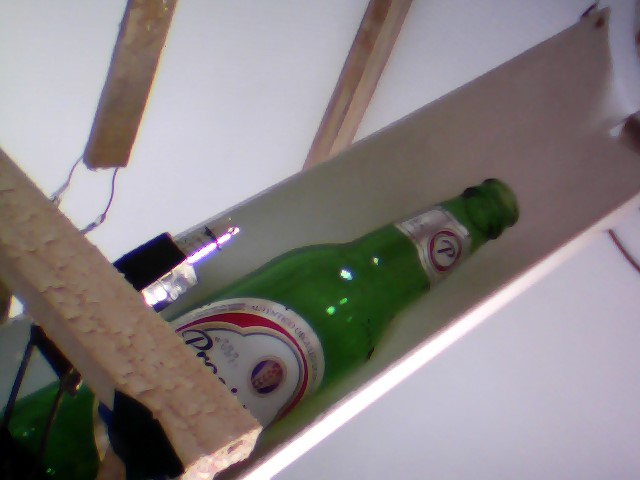vidrio: (186, 171, 537, 435)
